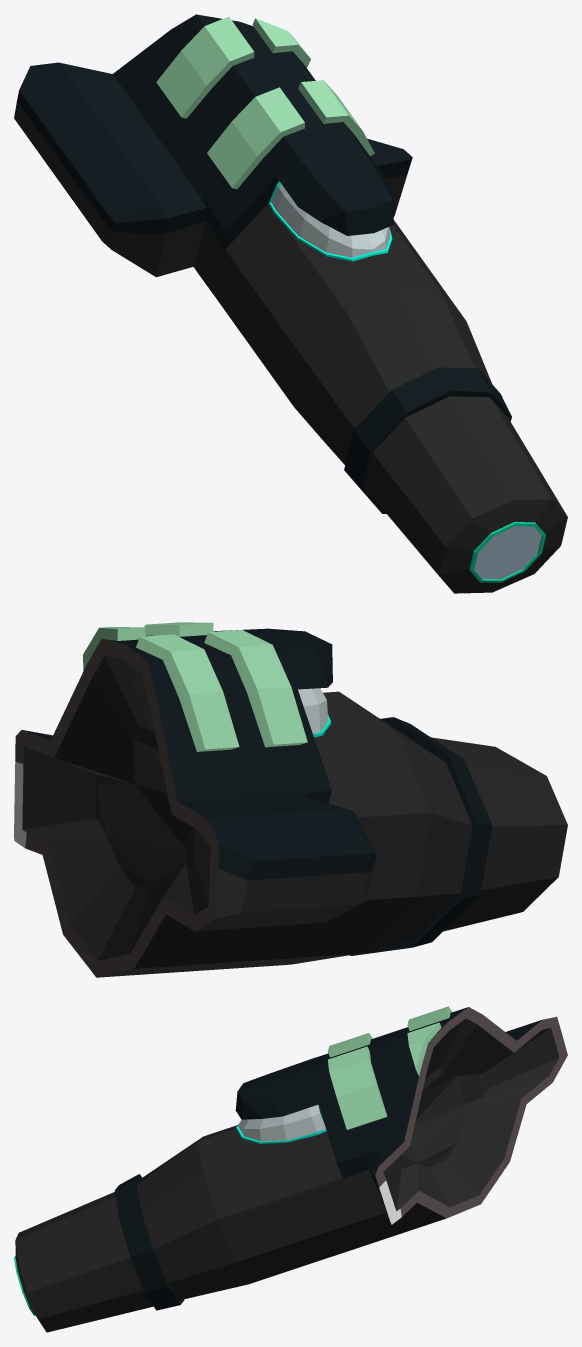
The model's file is Freighter_Body.02.fbx.
The picture shows the model from 3 angles, top to bottom: view 1: azimuth 30°, elevation 25°; view 2: azimuth 150°, elevation 25°; view 3: azimuth 270°, elevation 25°; orthographic projection. The views are drawn at different scales.
Parts seen in each view (by area): view 1: CruiserBody_02_LOD0; view 2: CruiserBody_02_LOD0; view 3: CruiserBody_02_LOD0.
Boxes of the visible parts, <box> form: CruiserBody_02_LOD0: <box>14,14,567,593</box>; CruiserBody_02_LOD0: <box>14,622,567,977</box>; CruiserBody_02_LOD0: <box>14,1006,567,1332</box>.
Size of what is drawn, in the model's own units: 8949 by 11840 by 19199.
1 material, 1 textured.
